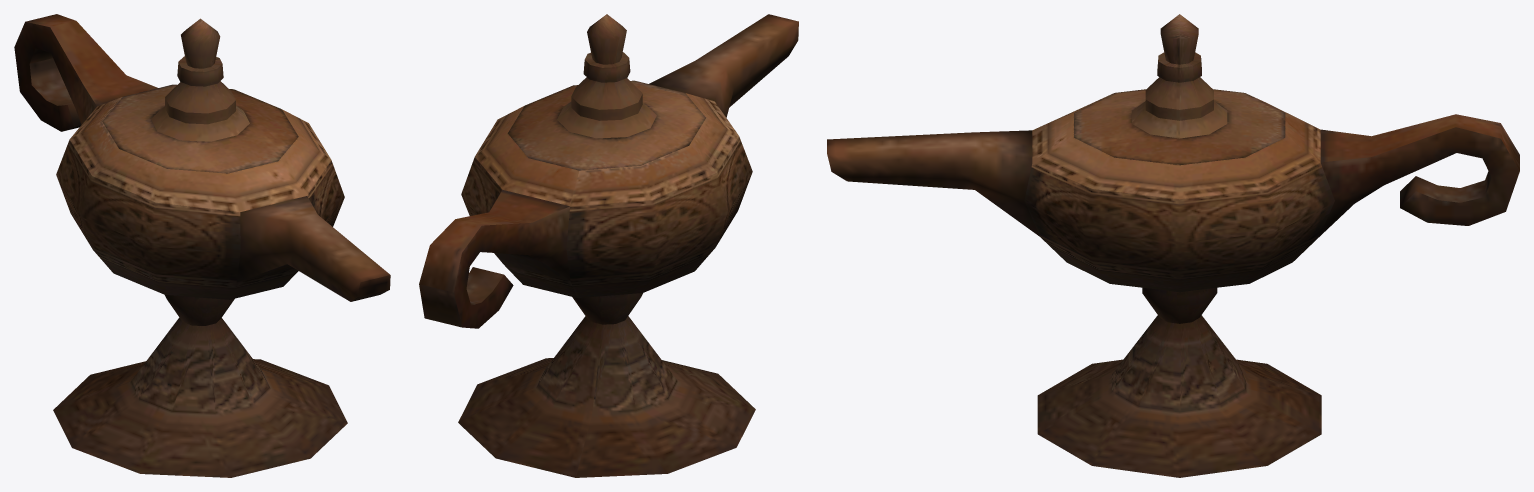
Rendered from genie_bottle.dae.
The picture shows the model from 3 angles, left to right: view 1: azimuth 30°, elevation 25°; view 2: azimuth 150°, elevation 25°; view 3: azimuth 270°, elevation 25°; orthographic projection.
Parts seen in each view (by area): view 1: pCylinder1; view 2: pCylinder1; view 3: pCylinder1.
Part boxes in pixels (x1=…): pCylinder1: x1=14, y1=14, x2=390, y2=477; pCylinder1: x1=419, y1=14, x2=798, y2=477; pCylinder1: x1=827, y1=14, x2=1519, y2=477.
Size of the model in its own units: 0.1803 by 0.2671 by 0.4183.
